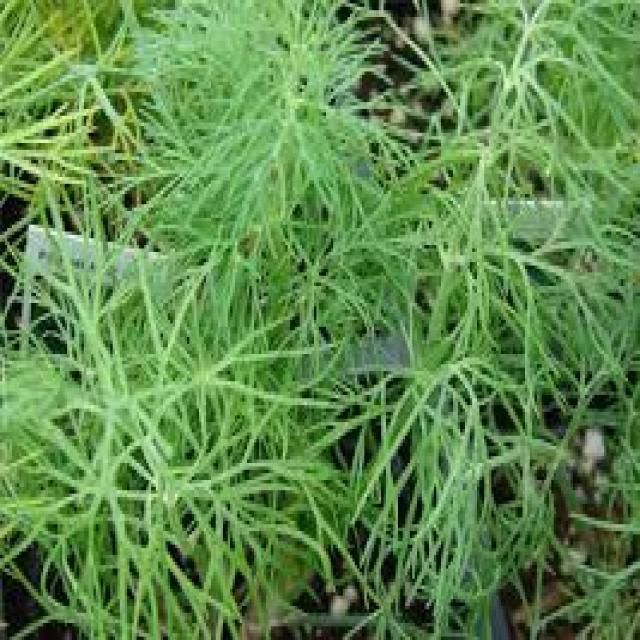Dill: (40, 17, 638, 633)
